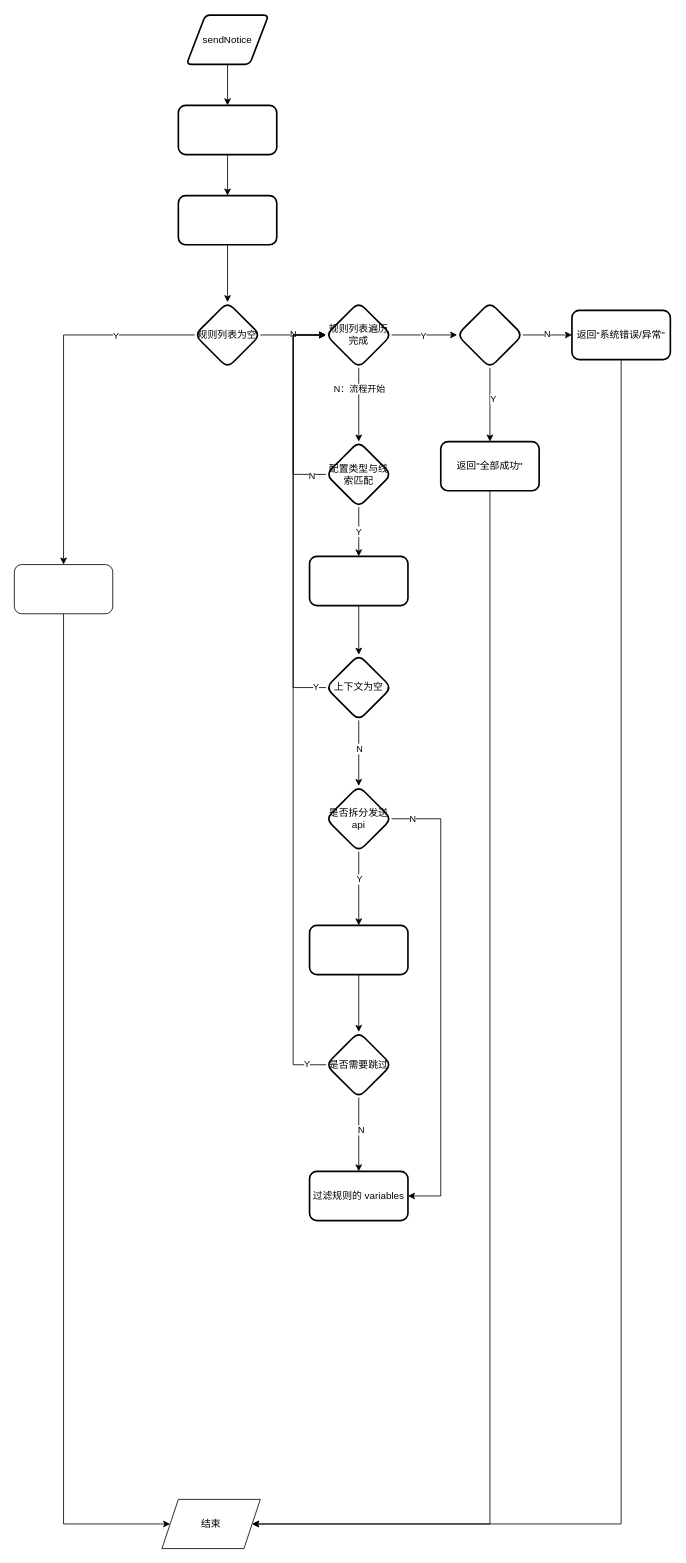
Image size: 686x1563. Some labels were removed from this diagram. The shapes that lost their labels are listed below. From the top down, each one's centre as x and y in pixels, then its label:
point (227, 129): 获得用户配置规则列表
point (227, 219): 根据请求过滤用户配置规则列表
point (489, 334): baseException为空
point (63, 589): 返回"没有配置规则"
point (358, 580): 根据请求信息，获取上下文
point (358, 949): 处理表单线索拆分逻辑
